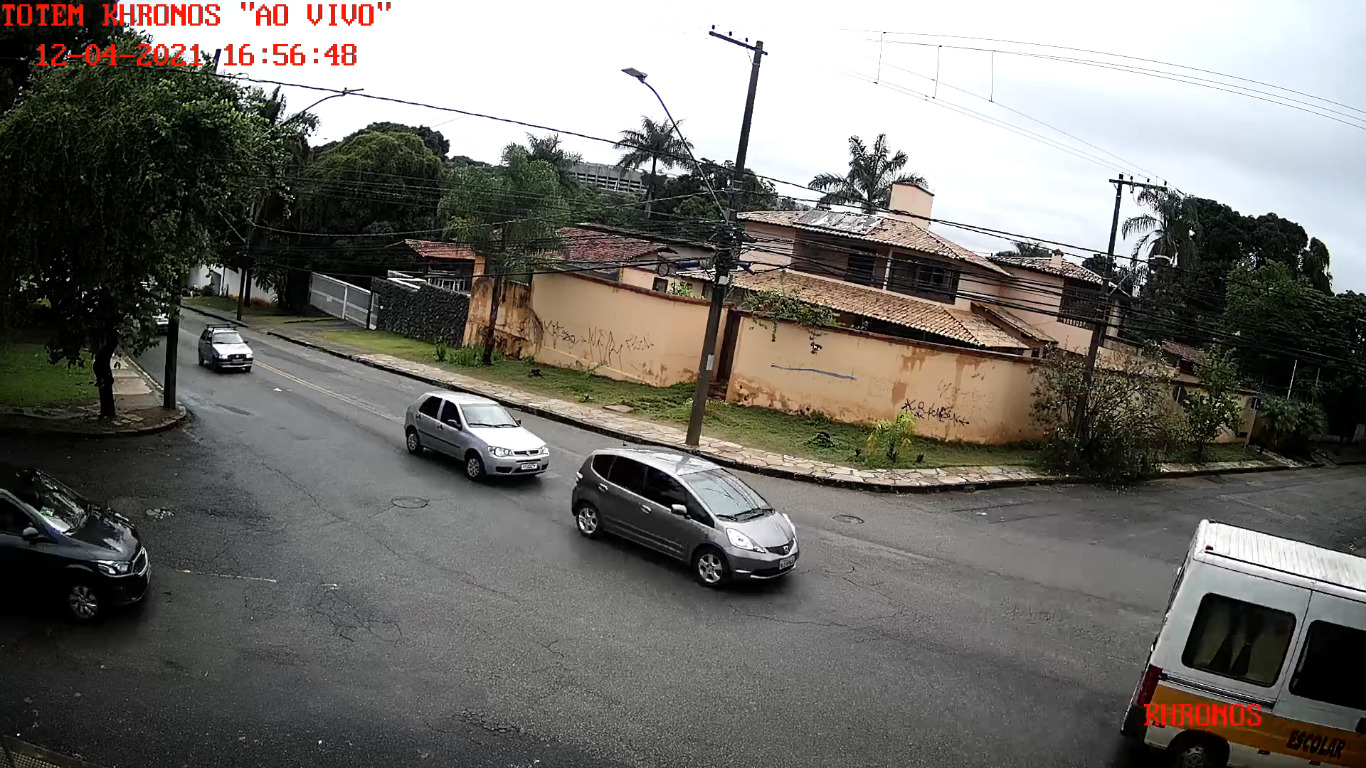car: (571, 445, 800, 590), (403, 392, 549, 482)
